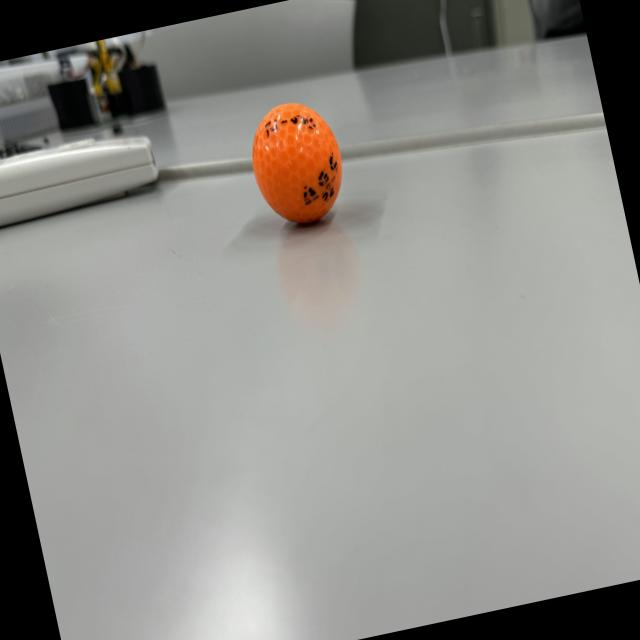ball: (236, 87, 360, 240)
